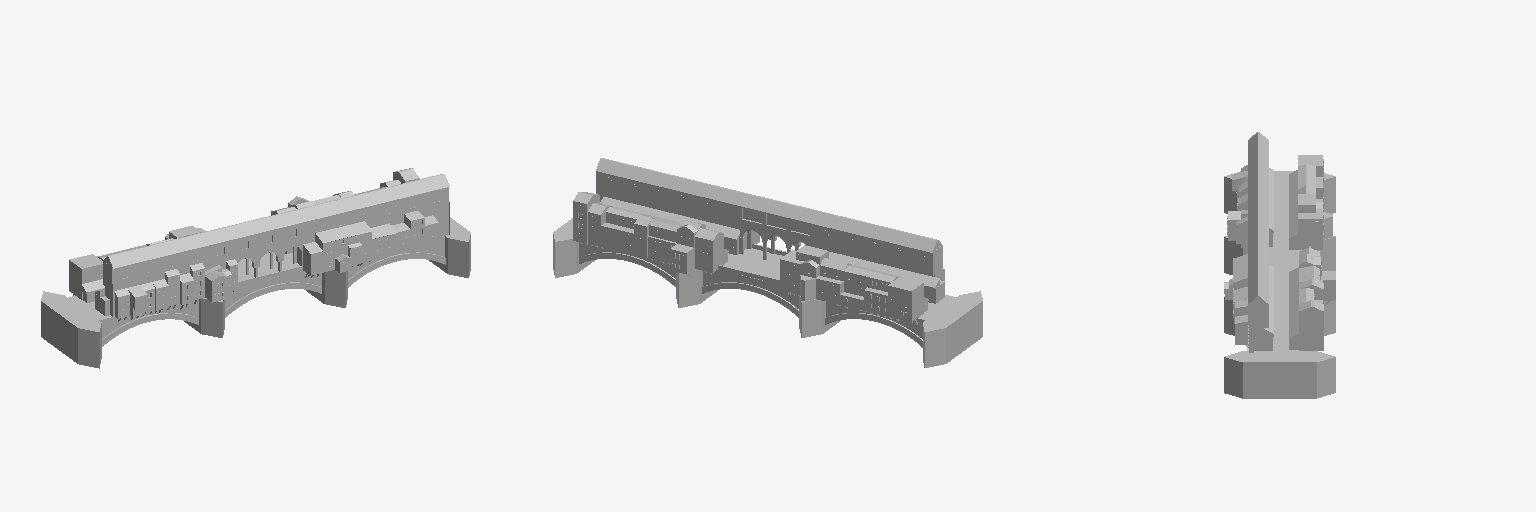
File: vecchio.obj
The picture shows the model from 3 angles: view 1: azimuth 30°, elevation 25°; view 2: azimuth 150°, elevation 25°; view 3: azimuth 270°, elevation 25°; orthographic projection.
Visible parts, largest first — view 1: PonteVecchio; view 2: PonteVecchio; view 3: PonteVecchio.
Part boxes in pixels (bbox=[...]): PonteVecchio: bbox=[41, 168, 470, 368]; PonteVecchio: bbox=[553, 158, 982, 367]; PonteVecchio: bbox=[1224, 132, 1335, 398].
Size of the model in its own units: 28.58 by 6.5 by 7.12.